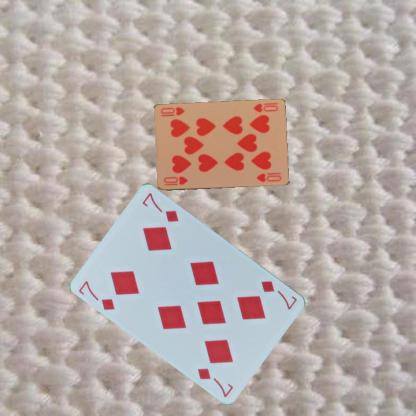10h: (162, 174, 188, 187), (251, 101, 279, 113)
7d: (76, 278, 116, 312), (259, 278, 299, 311)
